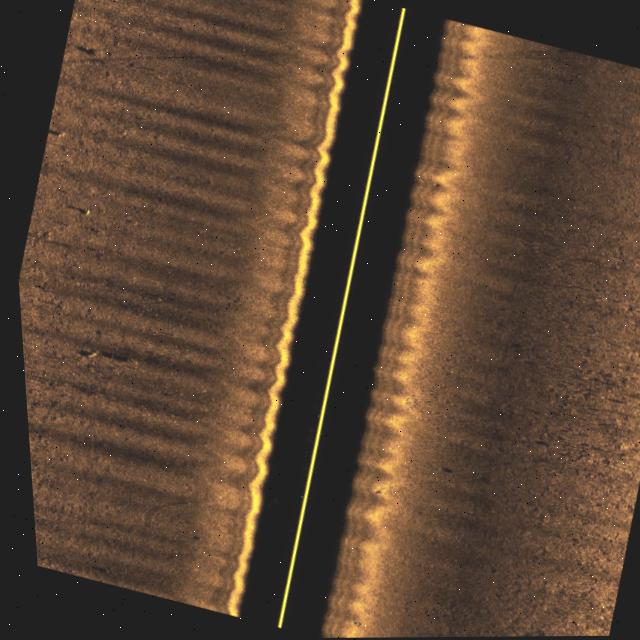mine: (71, 346, 94, 363)
